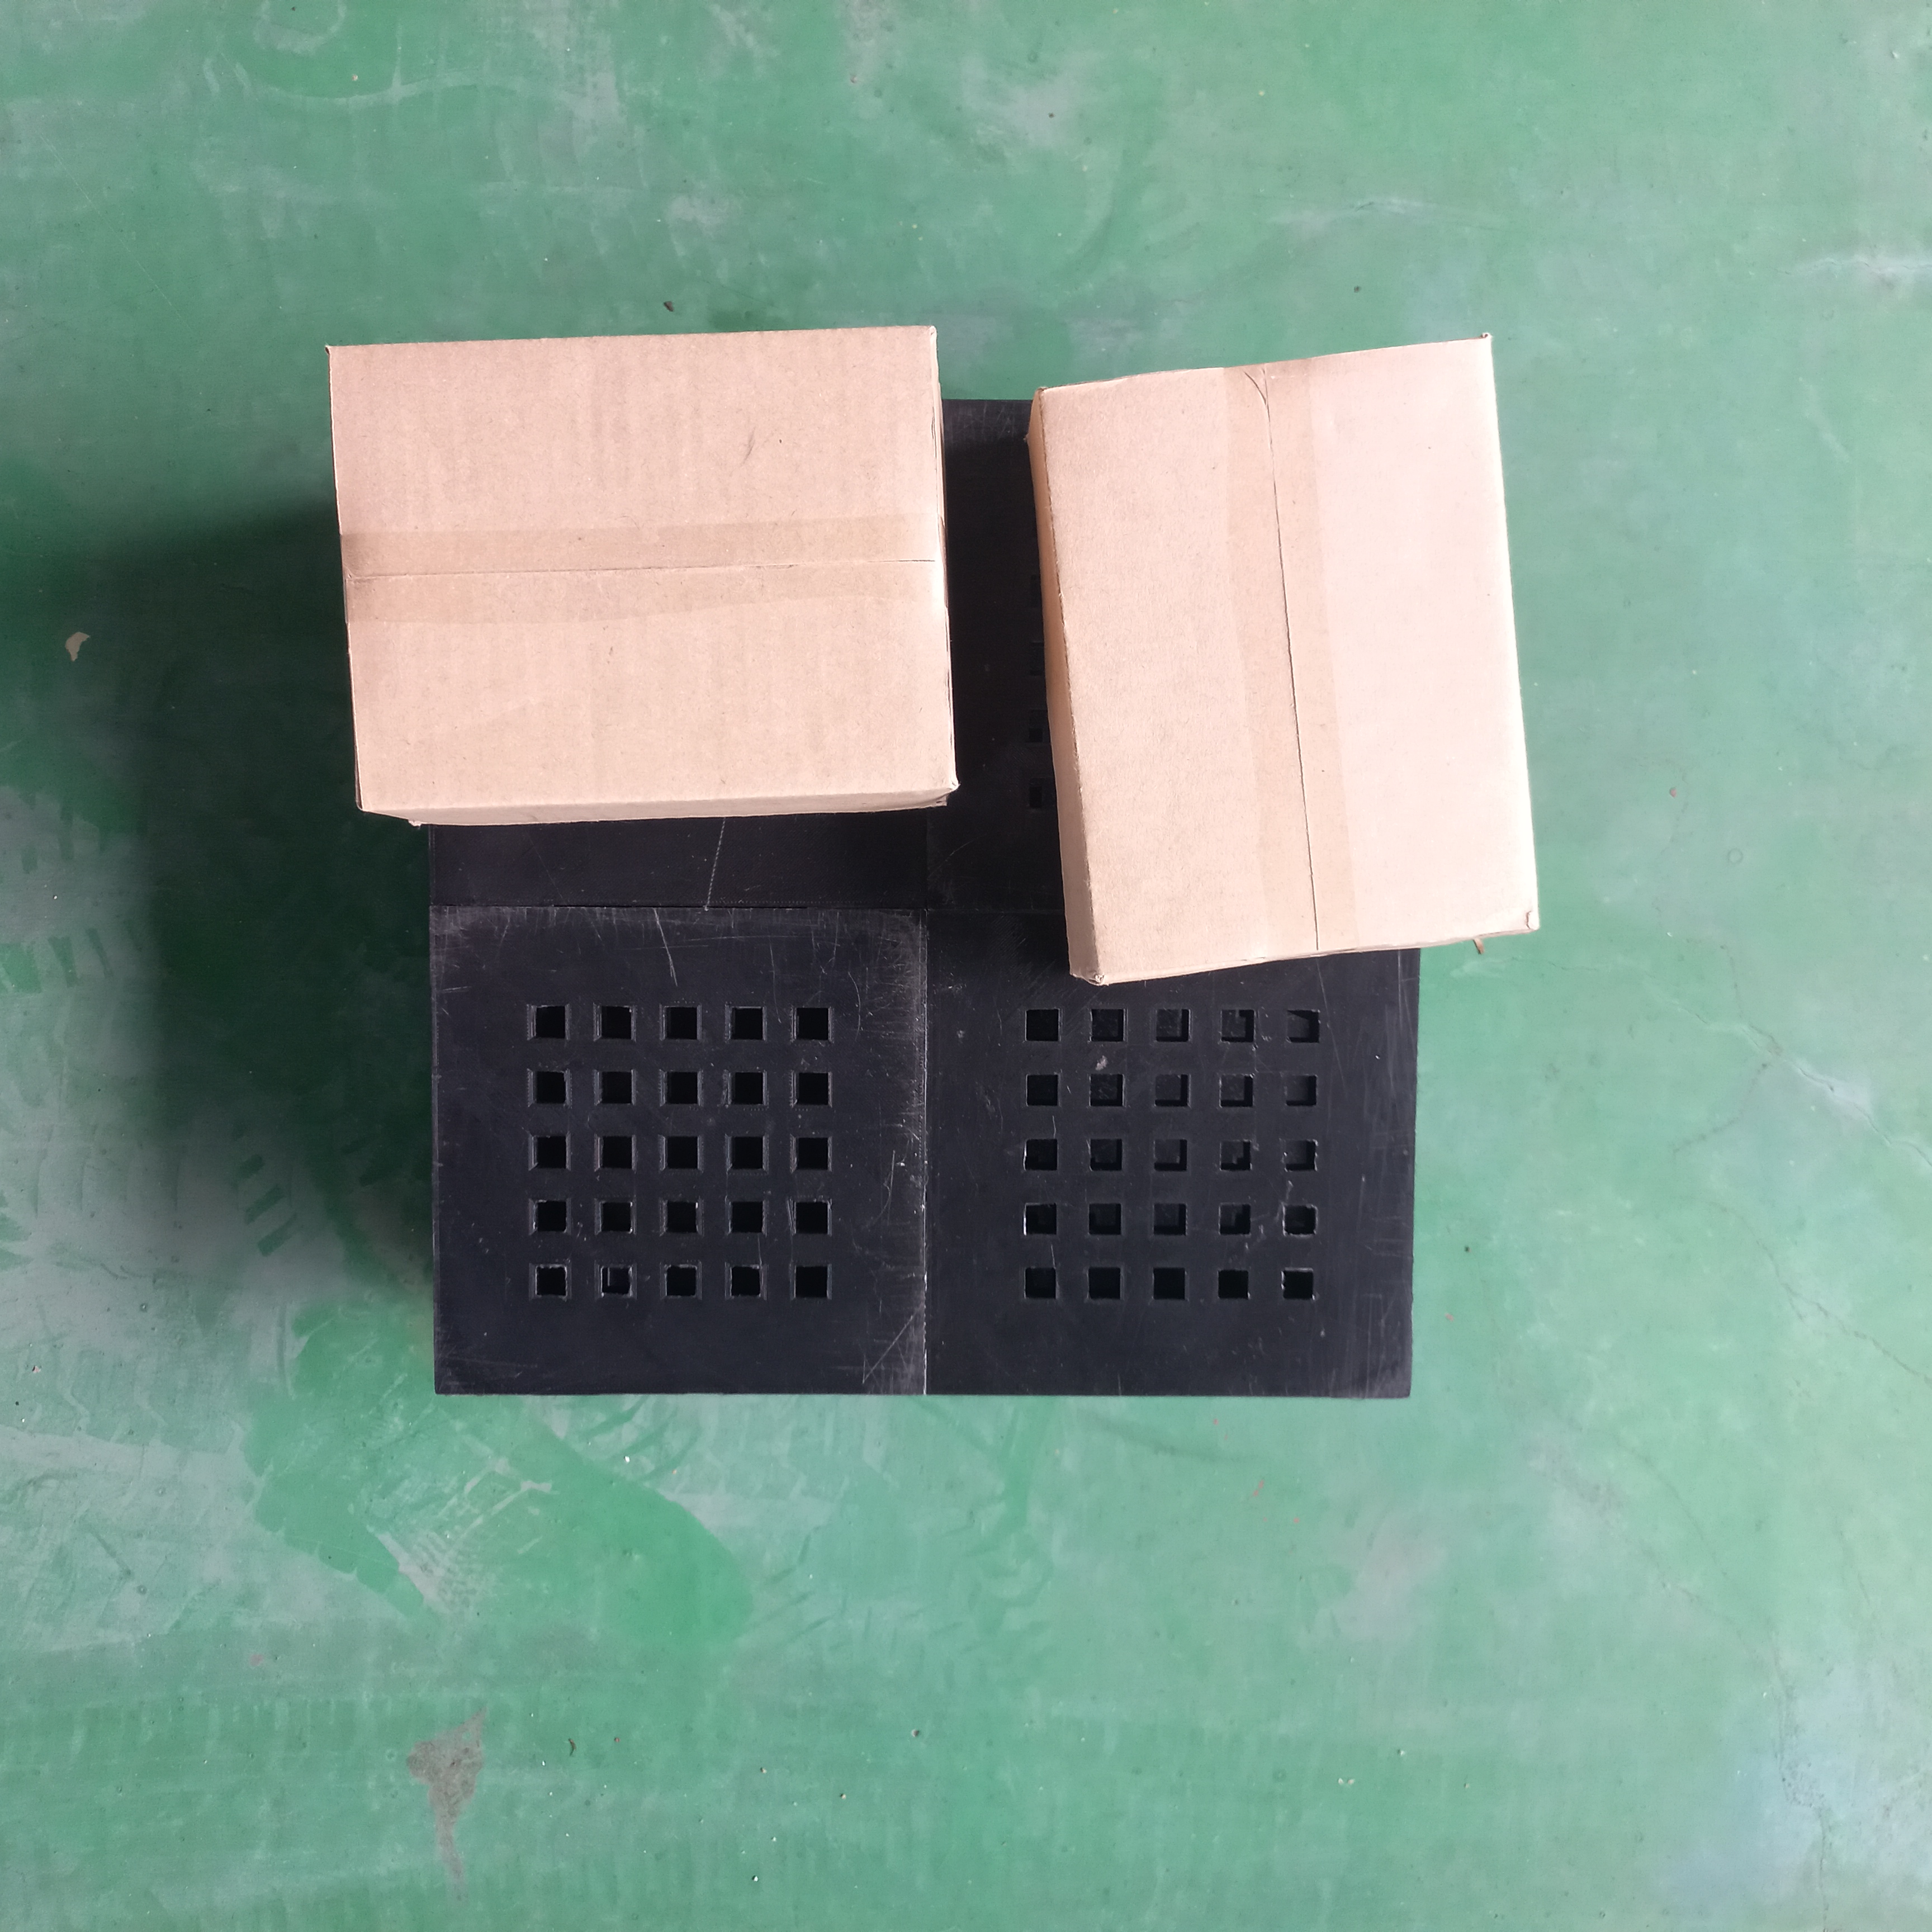box: (315, 308, 959, 832), (1033, 331, 1541, 994)
